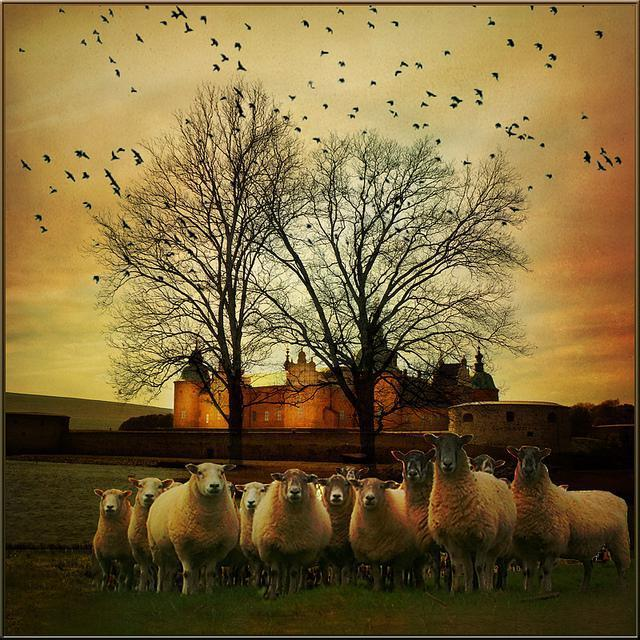Sheep: (506, 443, 633, 598), (419, 431, 519, 597), (150, 463, 239, 595), (252, 469, 333, 601), (392, 443, 445, 593), (349, 477, 418, 592), (128, 478, 182, 593), (93, 488, 140, 594), (233, 480, 272, 594), (316, 475, 355, 589)
